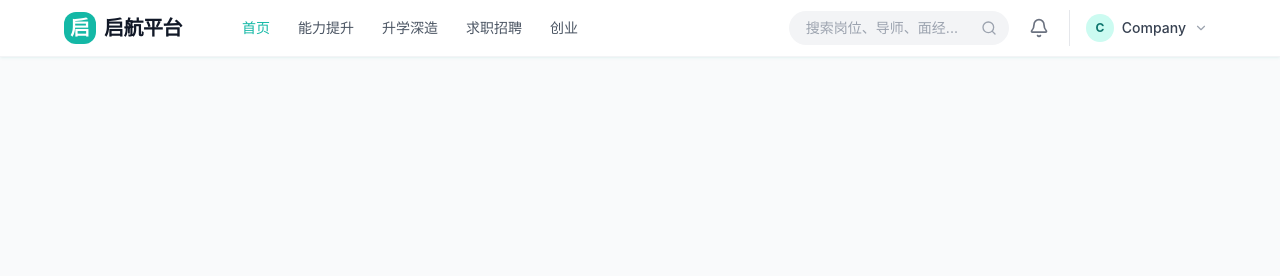
Scenario: Navbar - comprehensive layout and component tests › Authenticated user menu › shows role label for company user
This screenshot has width=1280, height=276.
Click the button with aria-label "用户菜单" at (1147, 28), box [1078,10,1216,46]
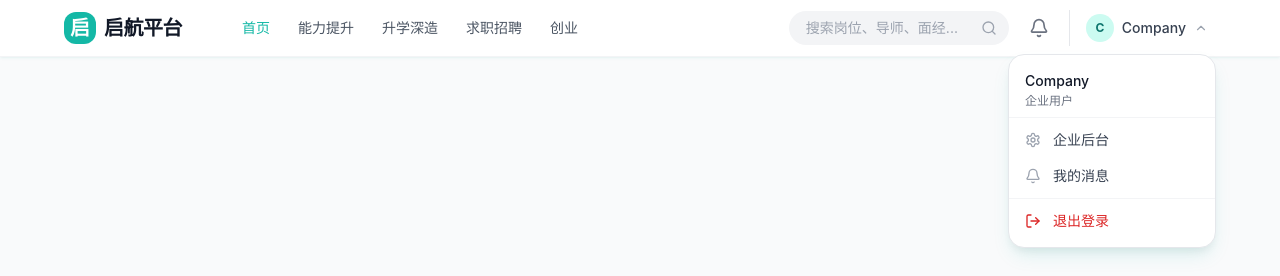
Check: the text "企业用户" is shown, box [1025,93,1073,108]
